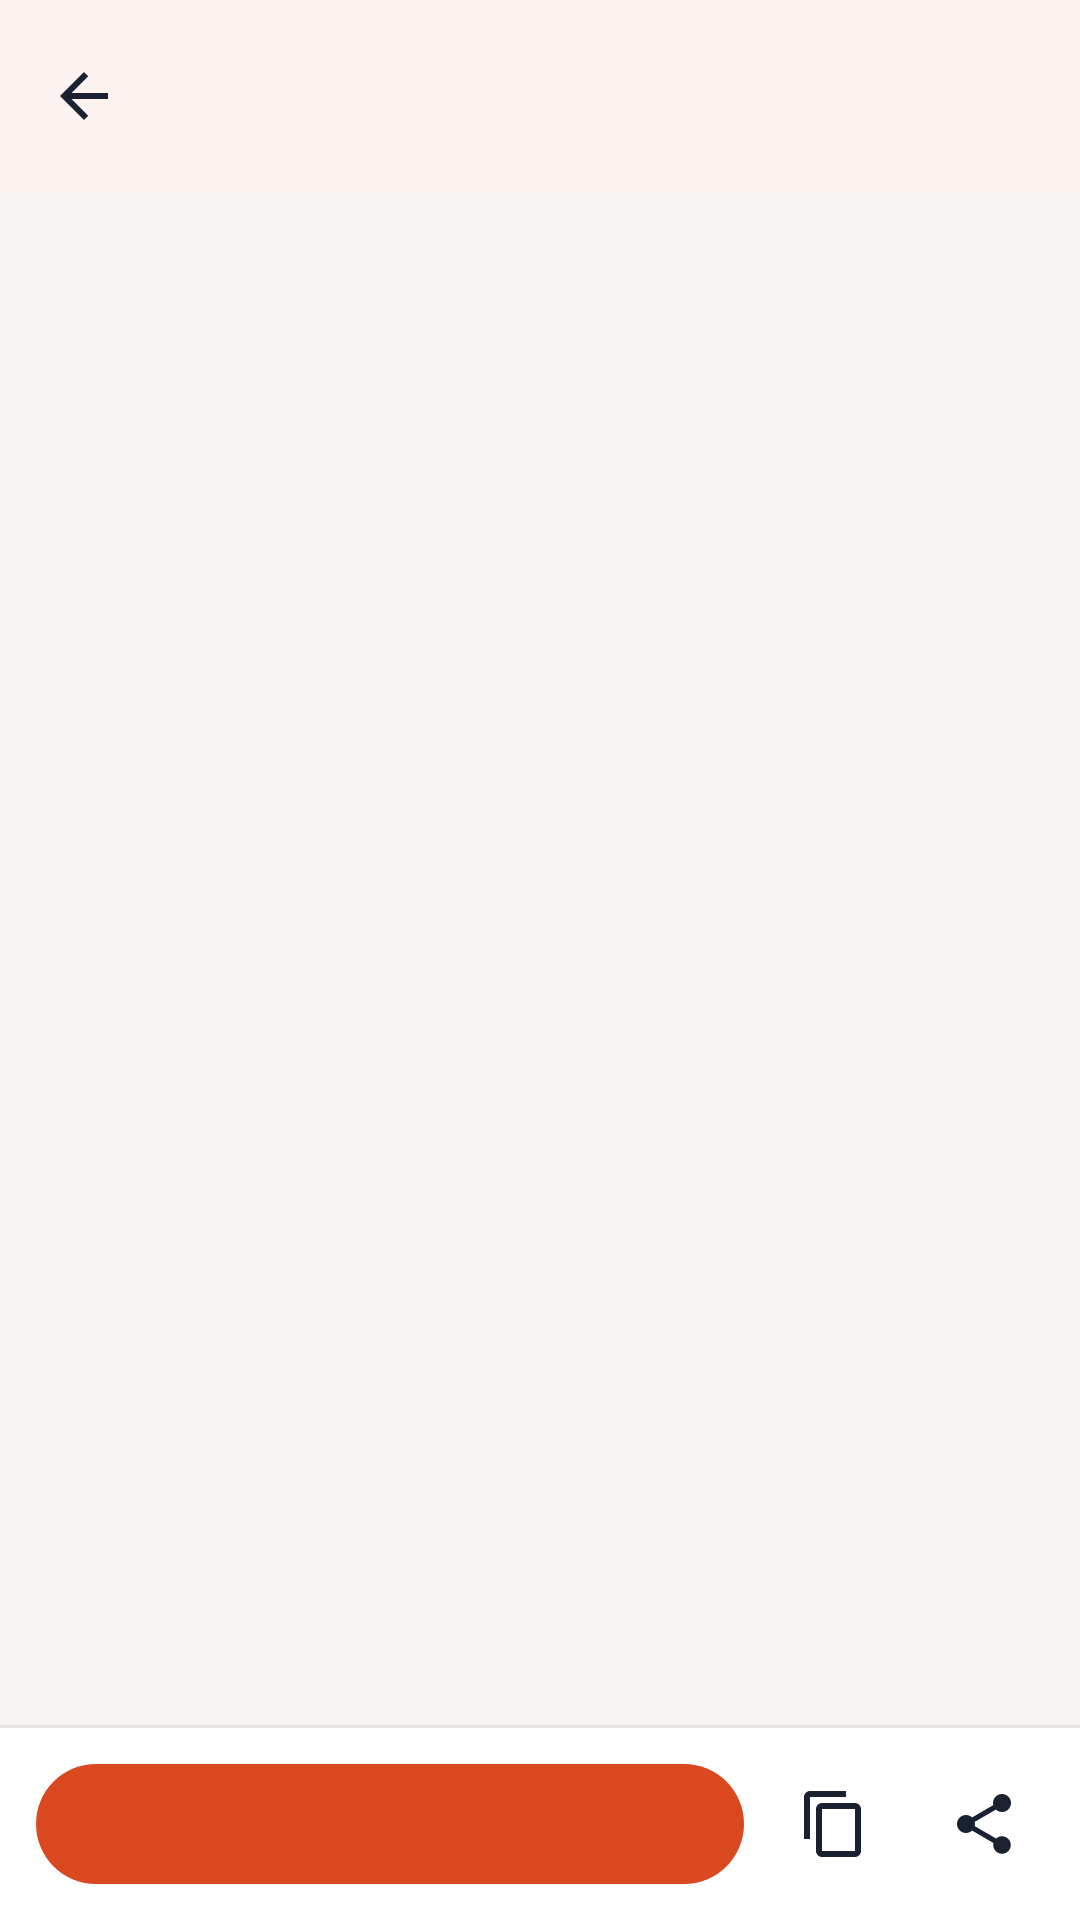

Locate icon controls on the screen. Image size 1080×1920, boxes as (x1, y1, x2, y2).
Copy the text: (804, 1791, 861, 1857)
Share to the group chat: (957, 1794, 1011, 1854)
